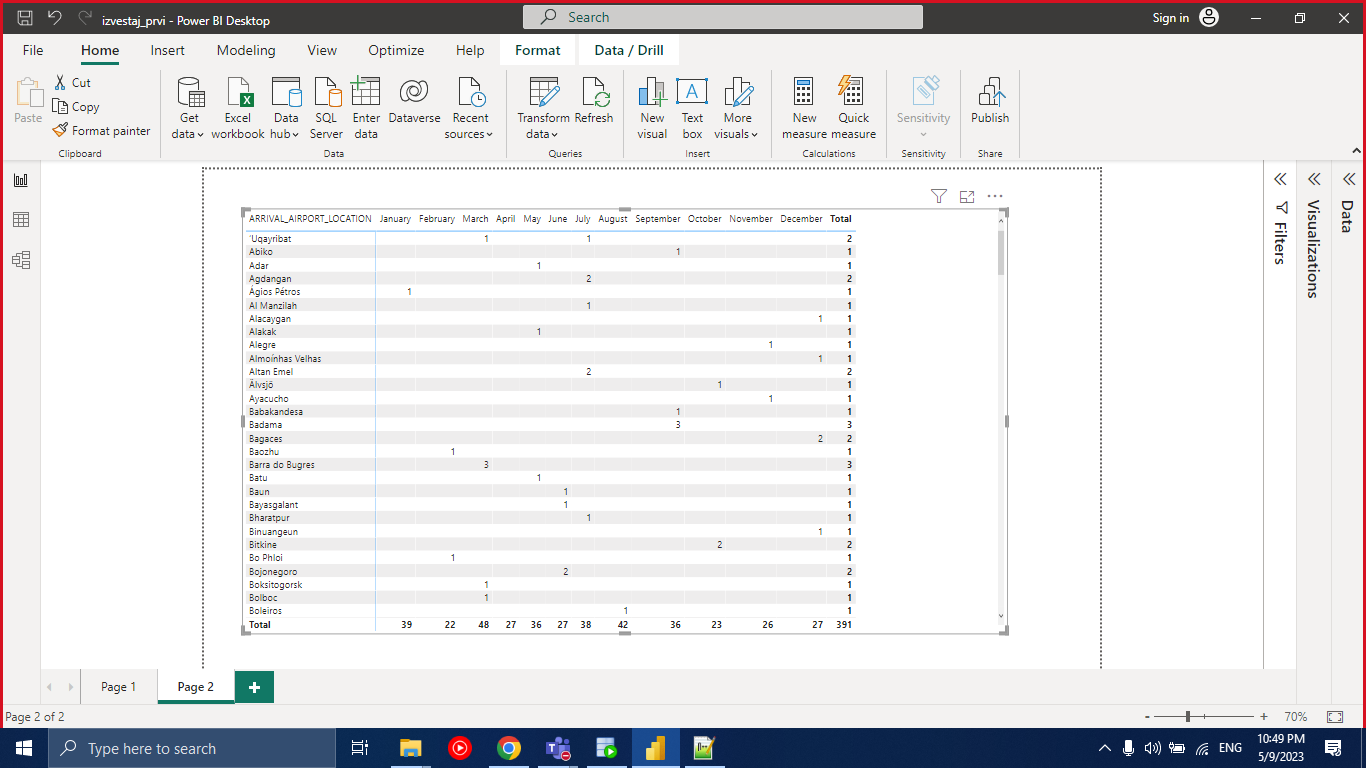

The page's visual inventory and layout, read from the dashboard file:
{"tool":"powerbi","page":{"name":"Page 2","canvas":[1280,720],"ordinal":1},"visuals":[{"type":"pivotTable","fields":{"Rows":["FLIGHT_DIM.ARRIVAL_AIRPORT_LOCATION"],"Values":["CountNonNull(RESERVATION_FACT.FLIGHT_DIM_ID)"],"Columns":["FLIGHT_DIM.DEPARTURE_DATE.Variation.Date Hierarchy.Month"]},"box":[54.3,55.7,1094.3,608.6],"z":0}]}

Visuals, with their boxes on the page's 1280x720 design canvas (x1, y1, x2, y2). These are canvas units, not pixel positions in the 1366x768 screenshot, which may show the page scaled, cropped or inside an application window:
pivotTable - FLIGHT_DIM.ARRIVAL_AIRPORT_LOCATION x CountNonNull(RESERVATION_FACT.FLIGHT_DIM_ID): bbox=[54, 56, 1149, 664]
